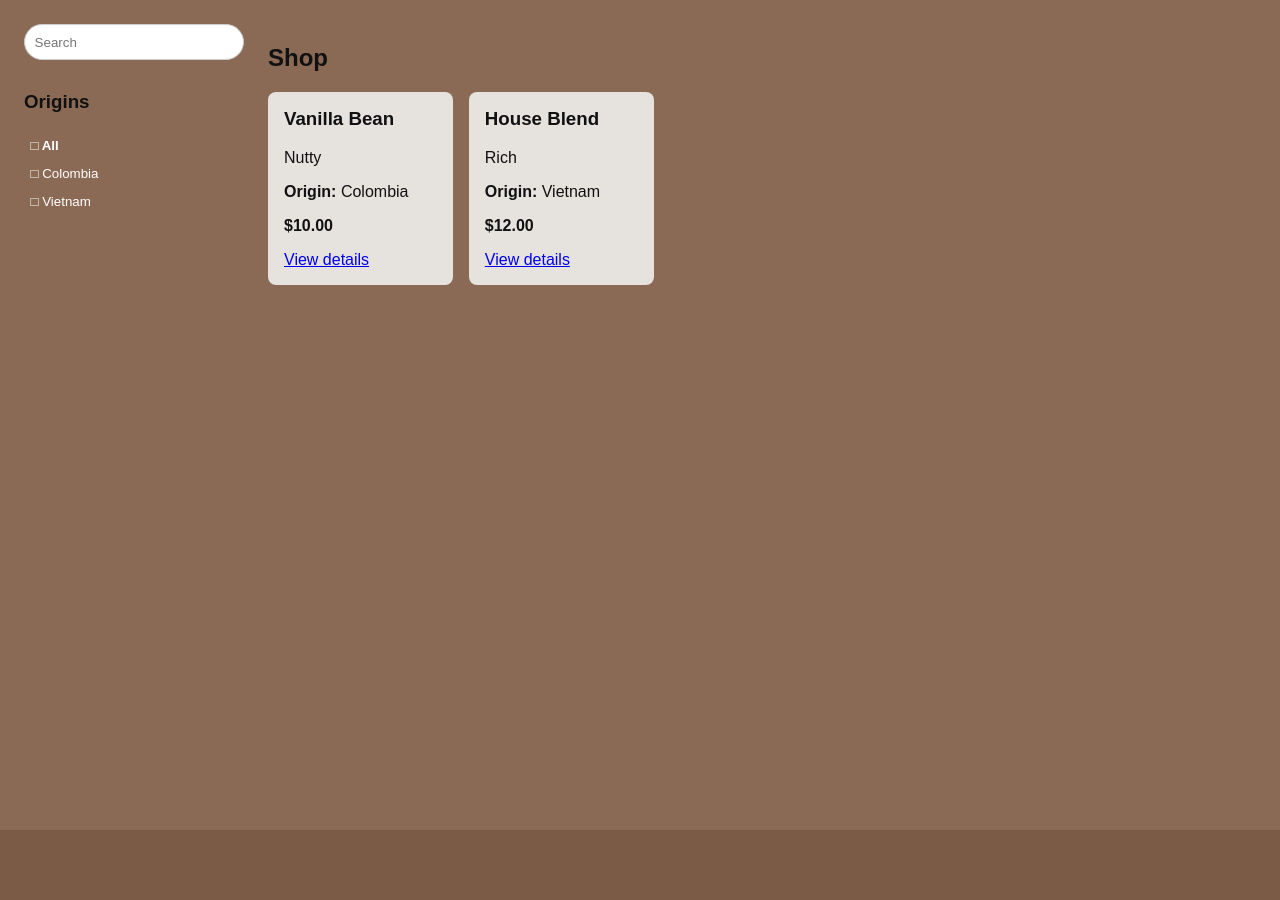
filters products by search query
Expected: the heading "Vanilla Bean" is shown, [284,108,394,129]
Expected: the heading "House Blend" is shown, [485,108,599,129]
Step 1. Type "vanilla" into the field named "search products" → [134, 42], box [24,24,244,60]
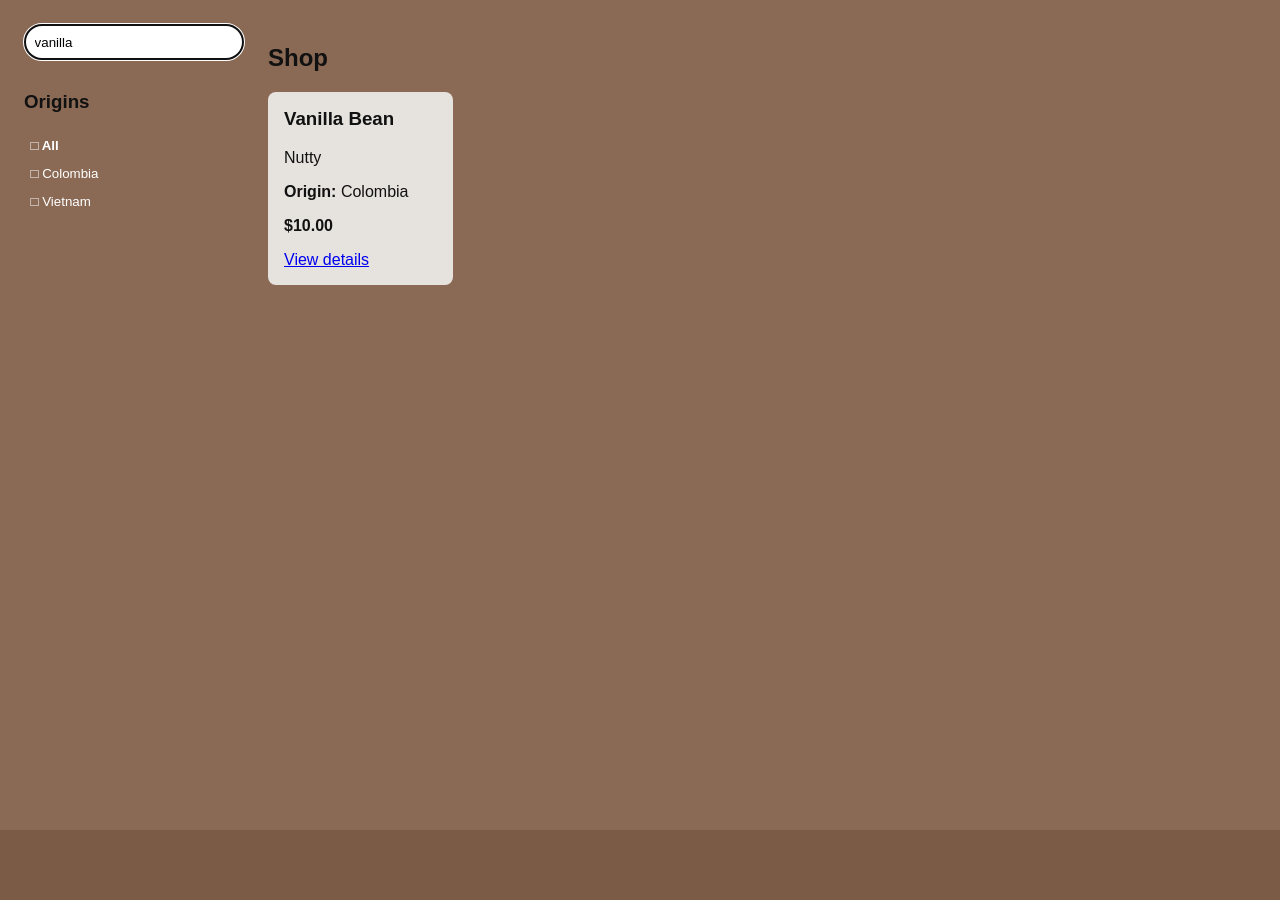
Expected: the heading "Vanilla Bean" is shown, [284,108,394,129]
Now the heading "House Blend" is gone
